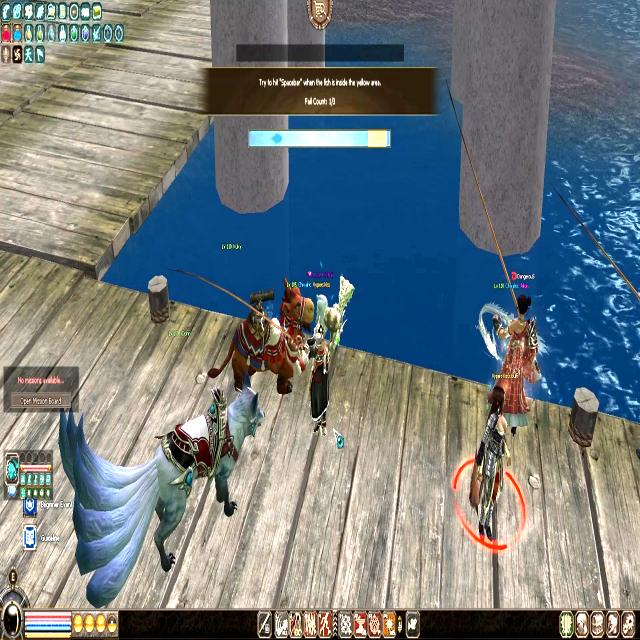fishes: (270, 132, 282, 144)
